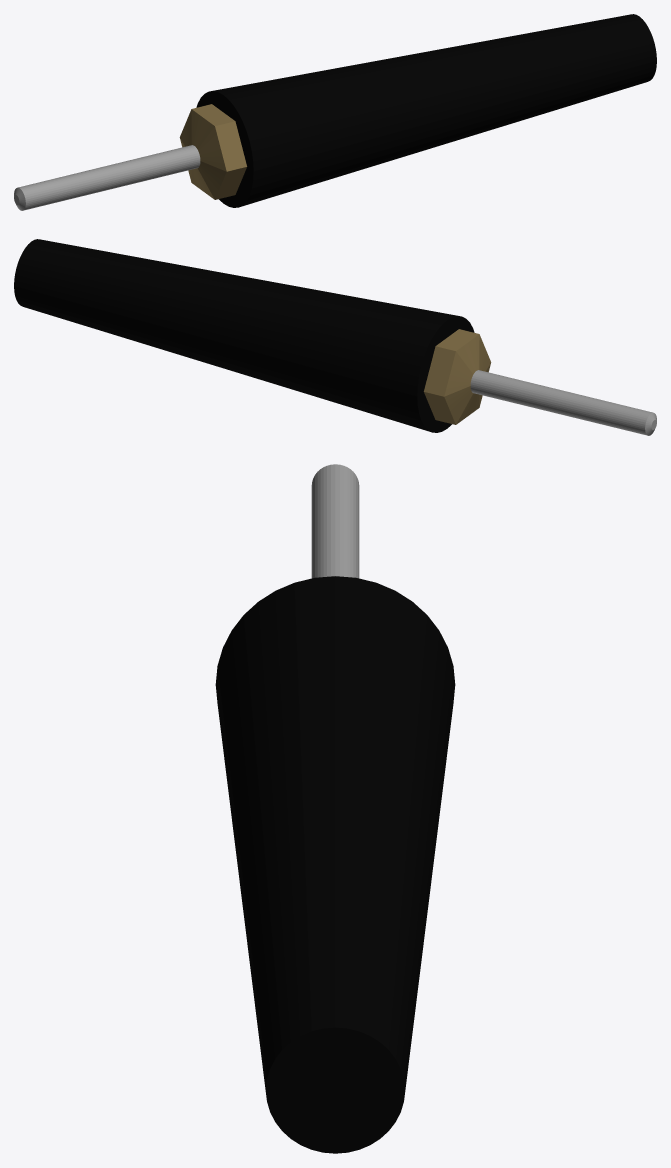
The model's file is connector.glb.
The picture shows the model from 3 angles, top to bottom: view 1: azimuth 30°, elevation 25°; view 2: azimuth 150°, elevation 25°; view 3: azimuth 270°, elevation 25°; orthographic projection. The views are drawn at different scales.
Visible parts, largest first — view 1: Коннектор; view 2: Коннектор; view 3: Коннектор.
Part boxes in pixels (left/top/right/bottom): Коннектор: left=14, top=14, right=656, bottom=210; Коннектор: left=14, top=239, right=656, bottom=435; Коннектор: left=215, top=464, right=455, bottom=1153.
Size of the model in its own units: 2.38 by 0.3961 by 0.3961.
